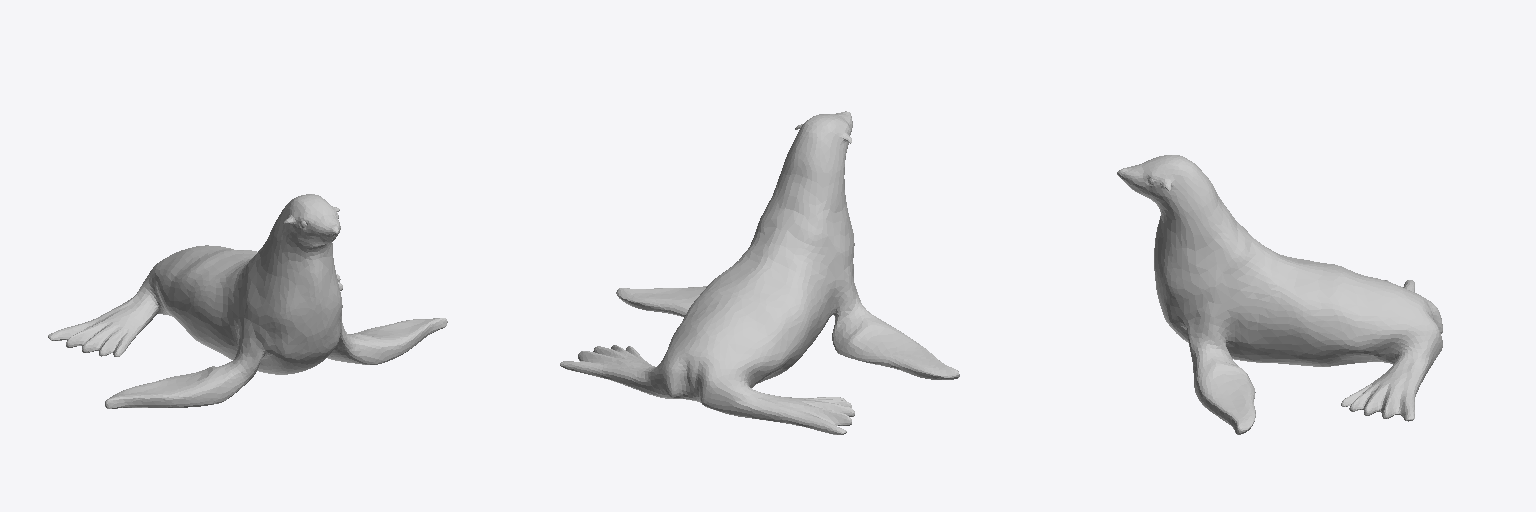
Rendered from seal.mesh__sf.obj.
3 renders of one model, left to right at view 1: azimuth 30°, elevation 25°; view 2: azimuth 150°, elevation 25°; view 3: azimuth 270°, elevation 25°, orthographic.
Bounding box in the file's own units: 1.85 × 1.02 × 1.53.